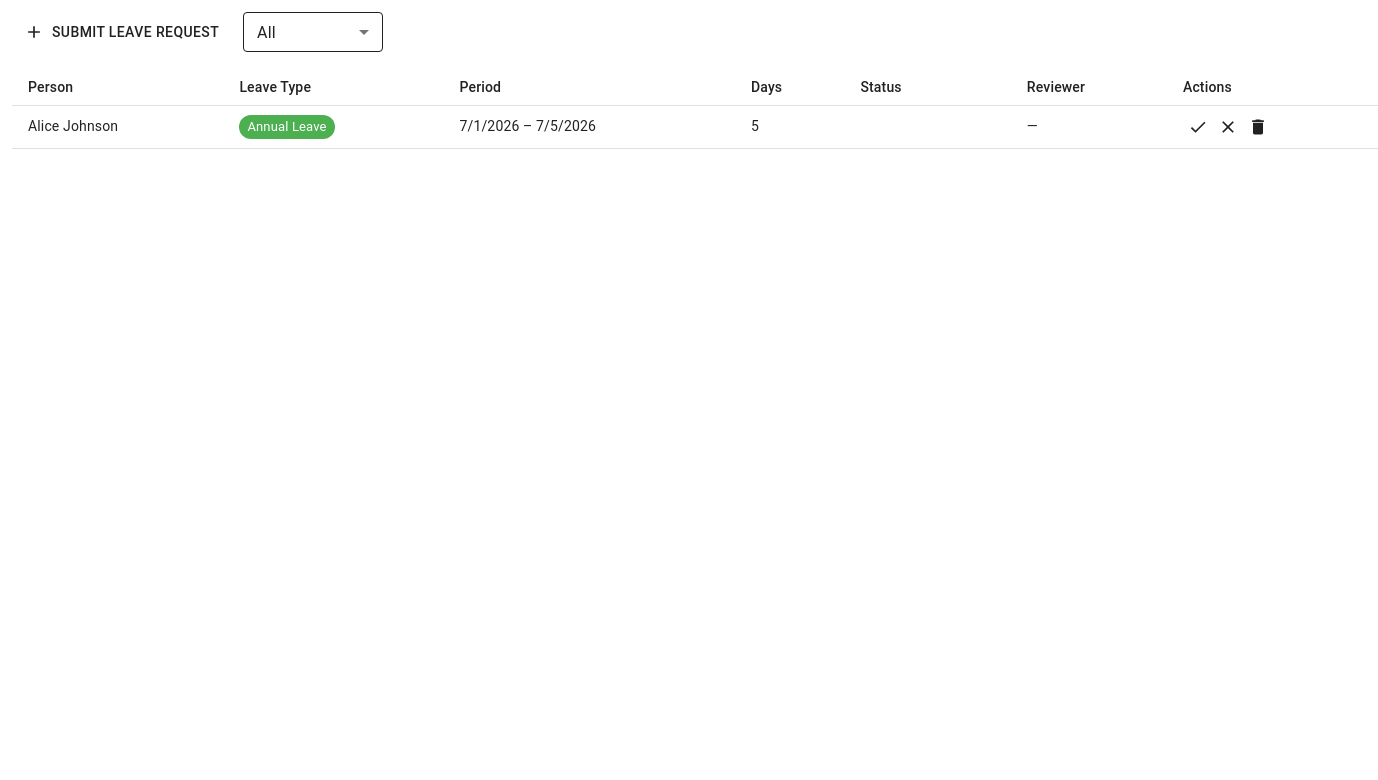
Test: LeaveRequestsTab › closes create form on cancel click
The image size is (1378, 780).
Click the button "Submit Leave Request" at coordinates (124, 32), box [12, 12, 235, 52]
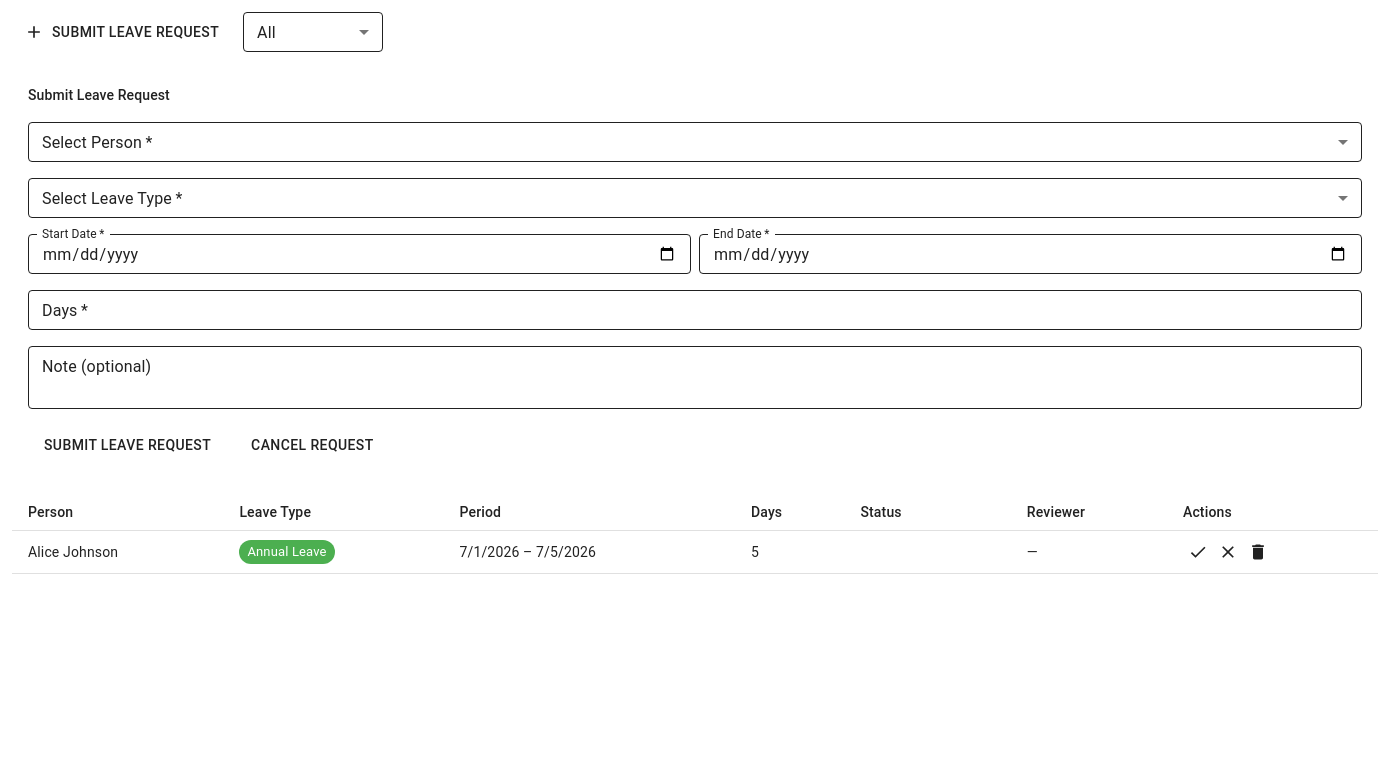
Click the button "Cancel Request" at coordinates (312, 446), box [235, 426, 390, 466]
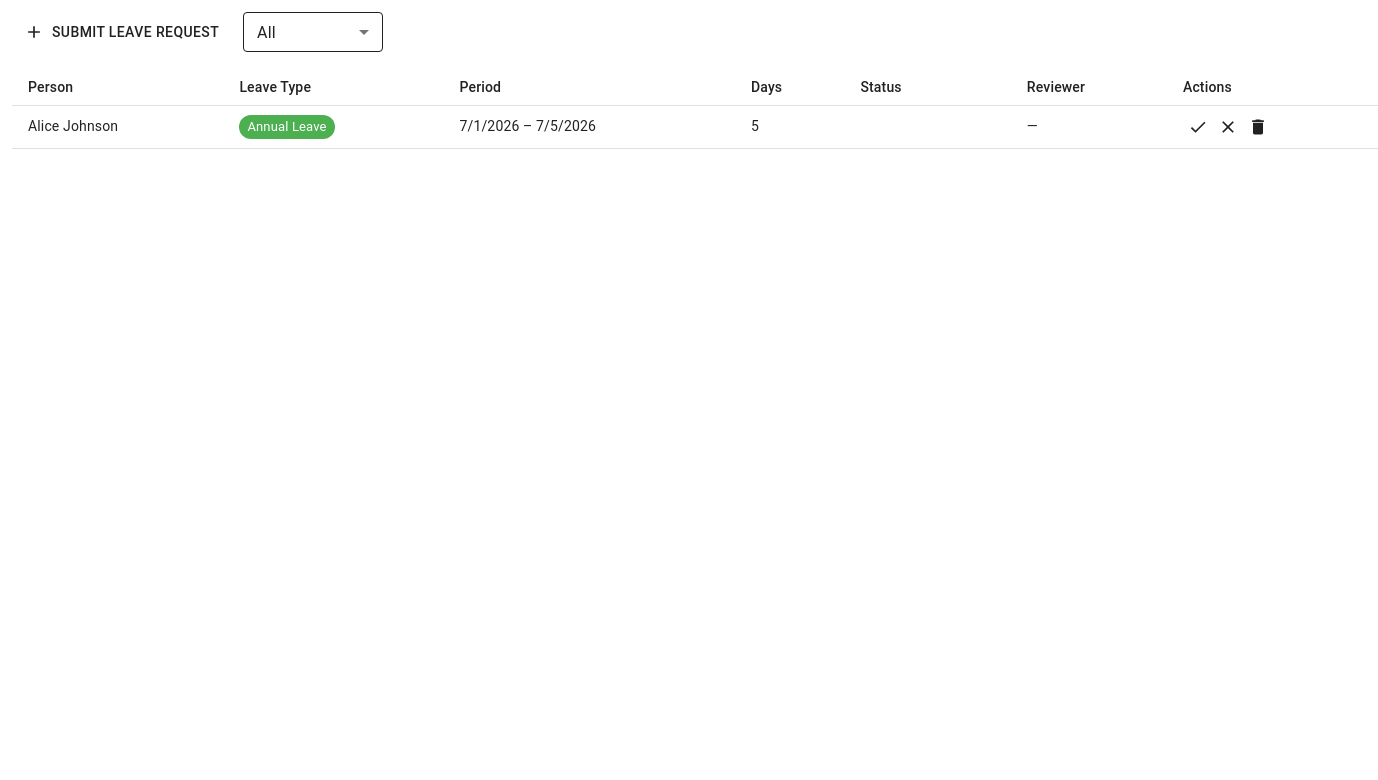
expect the text "Start Date" is gone: met
